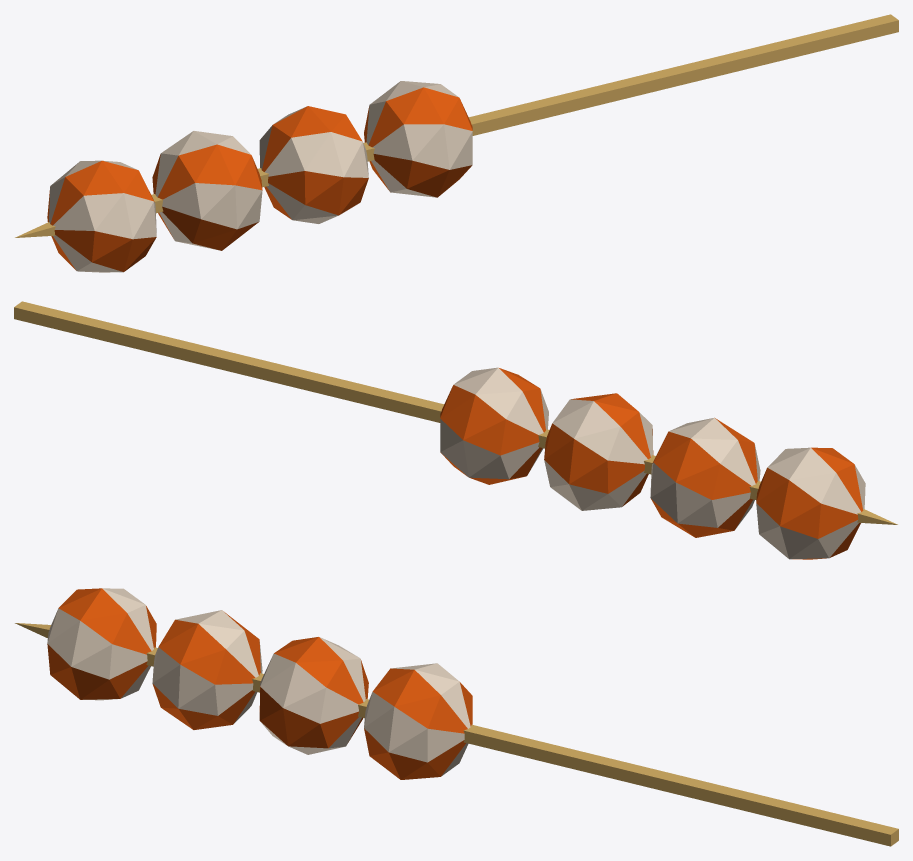
The model's file is SM_Cook_SkewerFishballStripe_Grilled_01.fbx.
The picture shows the model from 3 angles, top to bottom: view 1: azimuth 30°, elevation 25°; view 2: azimuth 150°, elevation 25°; view 3: azimuth 330°, elevation 25°; orthographic projection.
Parts seen in each view (by area): view 1: SM_Cook_SkewerFishballStripe_Grilled_01; view 2: SM_Cook_SkewerFishballStripe_Grilled_01; view 3: SM_Cook_SkewerFishballStripe_Grilled_01.
Part boxes in pixels (<box>): SM_Cook_SkewerFishballStripe_Grilled_01: <box>15,14,898,272</box>; SM_Cook_SkewerFishballStripe_Grilled_01: <box>14,301,897,559</box>; SM_Cook_SkewerFishballStripe_Grilled_01: <box>15,588,898,846</box>.
Bounding box in the file's own units: 0.25 × 0.0304 × 0.0304.
1 material, 1 textured.
